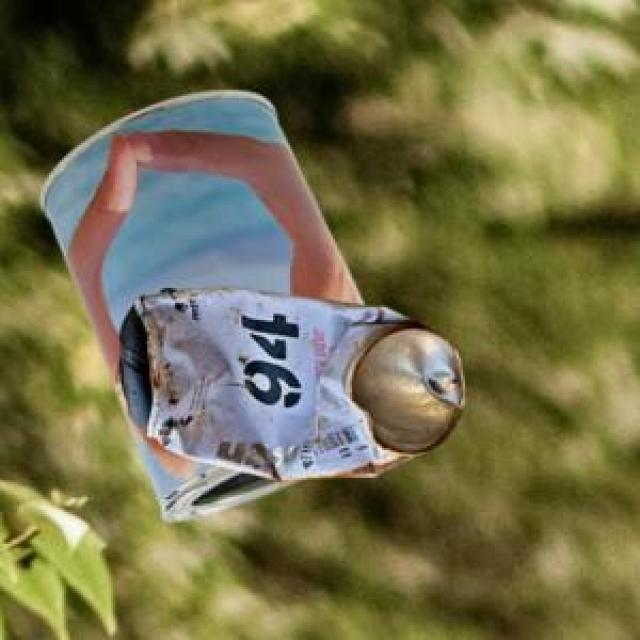logam: (37, 89, 359, 517), (114, 285, 462, 479)
